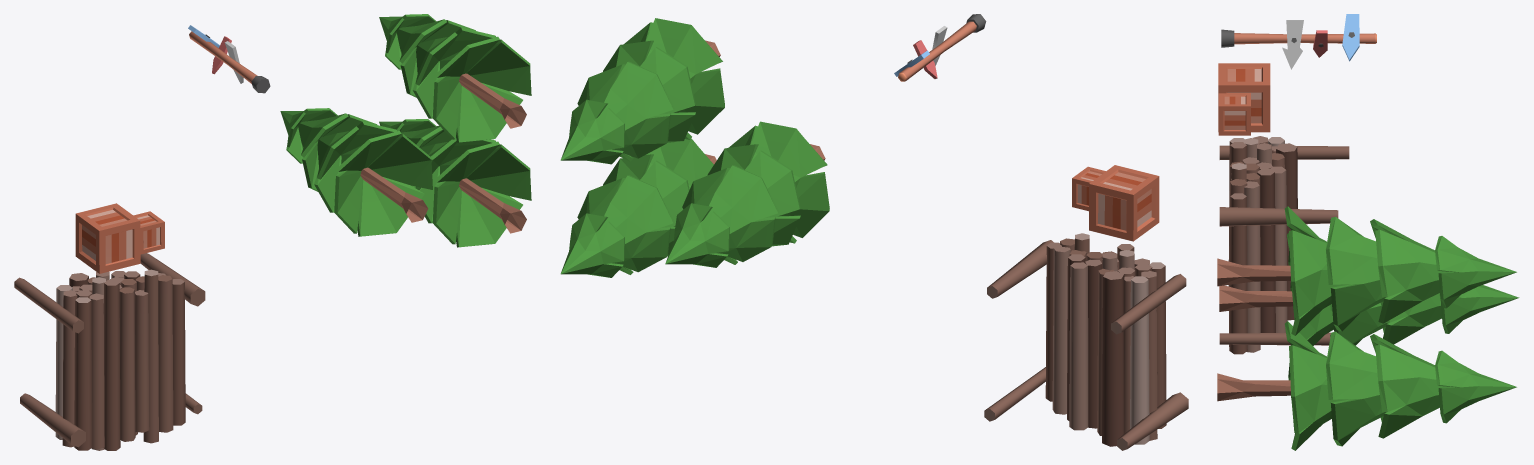
3 views of the same model, side by side, from view 1: azimuth 30°, elevation 25°; view 2: azimuth 150°, elevation 25°; view 3: azimuth 270°, elevation 25° (orthographic). The views are drawn at different scales.
Parts seen in each view (by area): view 1: log_001, fir_001.001, fir_001.002, fir_001, box_001, pointer_001, box_001.001; view 2: log_001, fir_001.002, fir_001.001, fir_001, box_001, pointer_001, box_001.001; view 3: fir_001.001, fir_001, log_001, fir_001.002, pointer_001, box_001, box_001.001.
Boxes of the visible parts, <box> form: log_001: <box>14,253,205,450</box>; fir_001.001: <box>379,14,531,142</box>; fir_001.002: <box>280,108,432,236</box>; fir_001: <box>379,119,531,247</box>; box_001: <box>75,203,140,273</box>; pointer_001: <box>188,25,270,93</box>; box_001.001: <box>133,211,164,254</box>; log_001: <box>984,233,1188,450</box>; fir_001.002: <box>665,121,829,267</box>; fir_001.001: <box>560,18,724,164</box>; fir_001: <box>560,138,716,277</box>; box_001: <box>1089,165,1159,241</box>; pointer_001: <box>894,14,986,81</box>; box_001.001: <box>1072,166,1105,211</box>; fir_001.001: <box>1217,206,1516,335</box>; fir_001: <box>1217,321,1516,450</box>; log_001: <box>1219,136,1349,354</box>; fir_001.002: <box>1219,233,1519,345</box>; pointer_001: <box>1221,14,1376,69</box>; box_001: <box>1218,63,1270,132</box>; box_001.001: <box>1218,93,1250,135</box>.
Bounding box in the file's own units: 0.811 × 0.5499 × 0.3907.
Materials: 4 (4 with a texture image).
